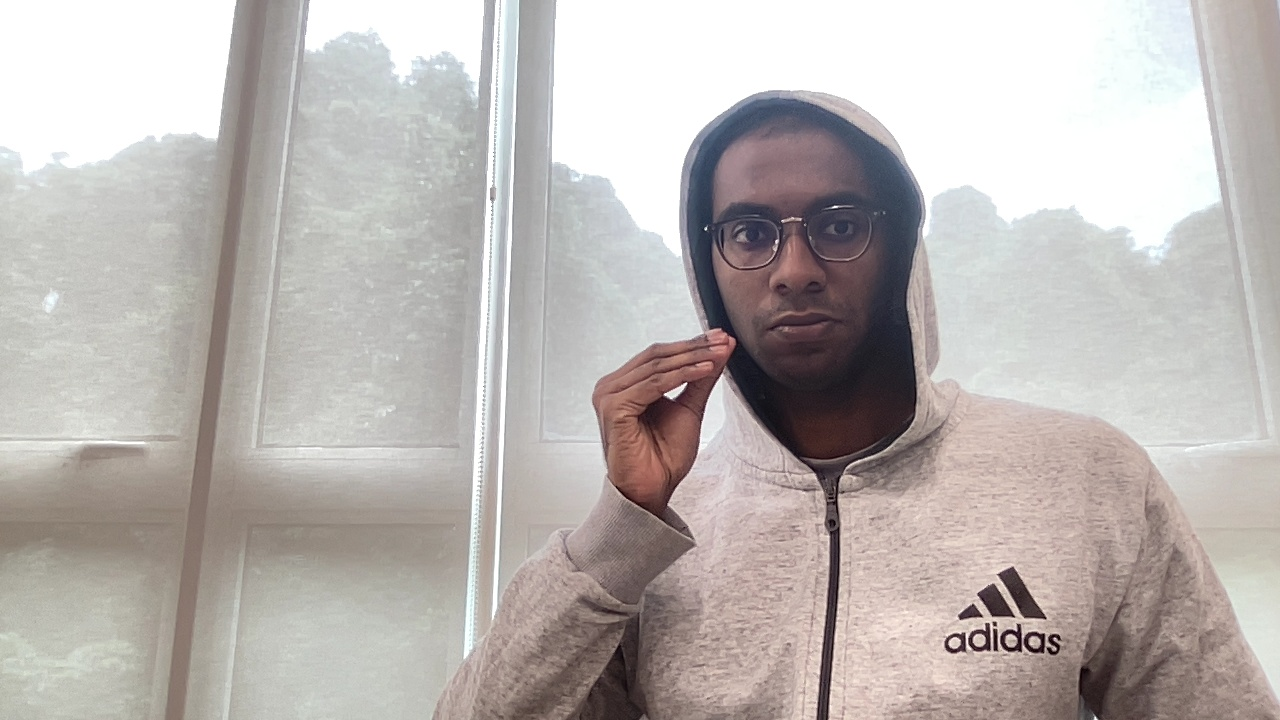eat: (586, 324, 740, 488)
